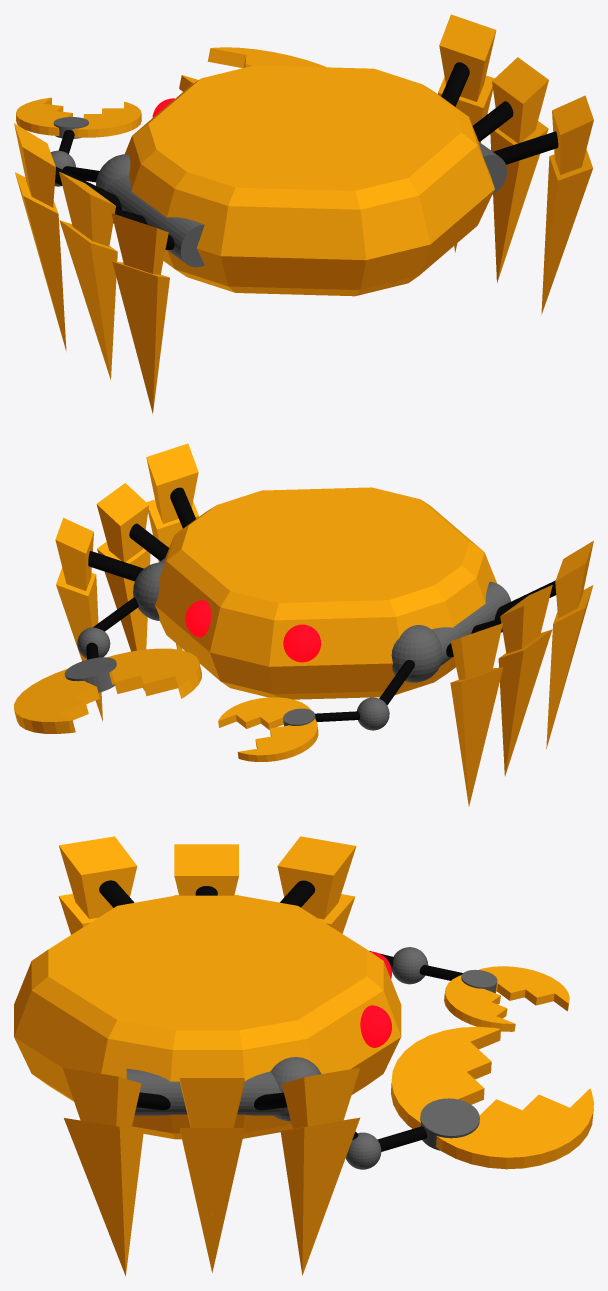
Rendered from BossCrab.fbx.
3 renders of one model, top to bottom at view 1: azimuth 30°, elevation 25°; view 2: azimuth 150°, elevation 25°; view 3: azimuth 270°, elevation 25°, orthographic. The views are drawn at different scales.
Parts seen in each view (by area): view 1: Cylinder, Cylinder.006, Cylinder.005; view 2: Cylinder, Cylinder.005, Cylinder.006; view 3: Cylinder, Cylinder.005, Cylinder.006.
Boxes of the visible parts, left/top/right/bottom form: Cylinder: left=14, top=14, right=593, bottom=413; Cylinder.006: left=53, top=101, right=141, bottom=138; Cylinder.005: left=207, top=47, right=326, bottom=68; Cylinder: left=55, top=443, right=593, bottom=806; Cylinder.005: left=14, top=657, right=116, bottom=733; Cylinder.006: left=218, top=697, right=315, bottom=729; Cylinder: left=14, top=836, right=569, bottom=1276; Cylinder.005: left=420, top=1088, right=593, bottom=1169; Cylinder.006: left=444, top=969, right=515, bottom=1031.
Size of the model in its own units: 318 by 136 by 323.
